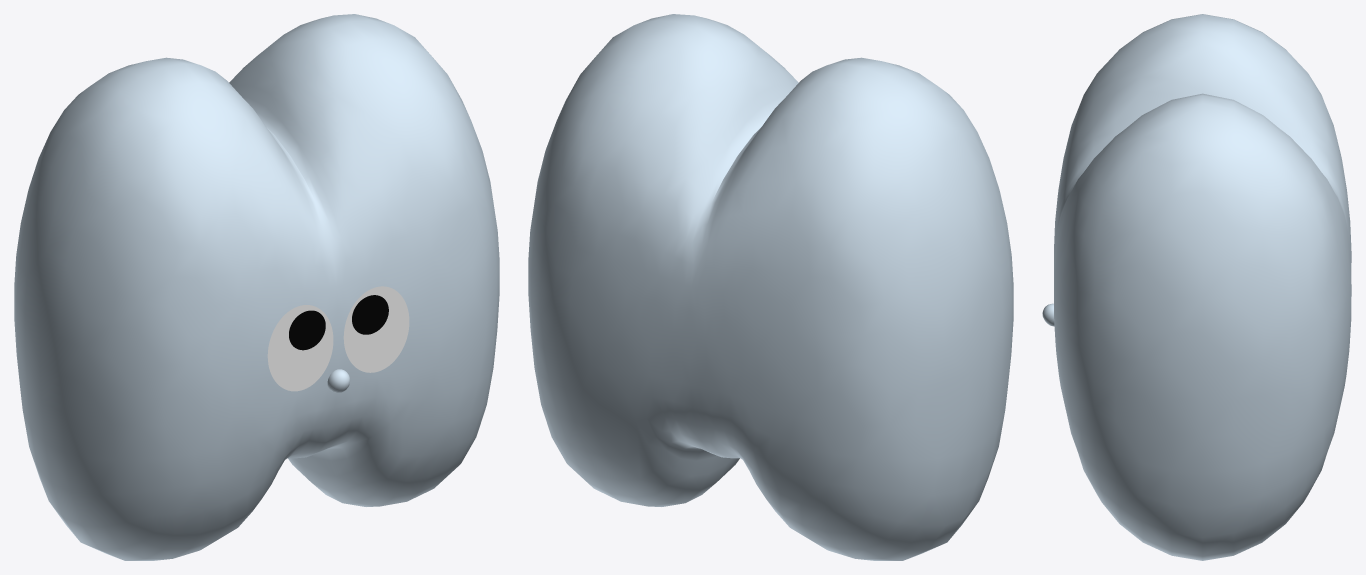
Rendered from main.gltf.
3 renders of one model, left to right at view 1: azimuth 30°, elevation 25°; view 2: azimuth 150°, elevation 25°; view 3: azimuth 270°, elevation 25°, orthographic. The views are drawn at different scales.
Visible parts, largest first — view 1: Cube, Disc (×2); view 2: Cube; view 3: Cube.
Boxes of the visible parts, <box> form: Cube: <box>14,14,499,560</box>; Disc (×2): <box>267,286,409,391</box>; Cube: <box>528,14,1013,560</box>; Cube: <box>1042,14,1351,560</box>.
Bounding box in the file's own units: 221 × 233 × 149.
